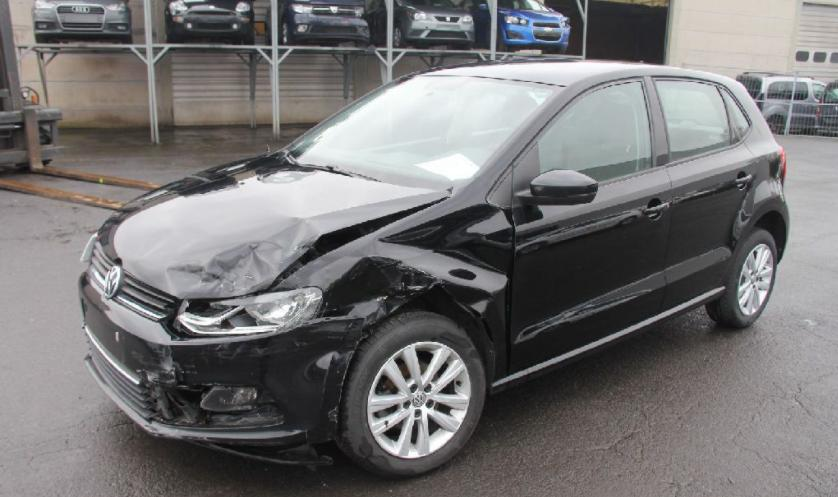Back-bumper: (781, 201, 790, 252)
Back-door: (654, 74, 759, 309)
Back-wheel: (706, 229, 777, 327)
Back-window: (656, 81, 729, 161), (719, 88, 751, 143)
Fender: (273, 174, 513, 381)
Front-bumper: (78, 272, 362, 450)
Front-door: (487, 77, 672, 376)
Front-wheel: (338, 311, 486, 479)
Front-window: (489, 80, 652, 208)
Grille: (85, 241, 181, 320)
Headlight: (171, 286, 323, 338)
Hood: (97, 151, 452, 299)
Mirror: (520, 170, 598, 207)
Quarter-panel: (721, 123, 784, 286)
Rocker-panel: (490, 286, 725, 395)
Roof: (420, 59, 682, 86)
Tail-light: (776, 144, 787, 188)
Windshield: (283, 74, 566, 193)
